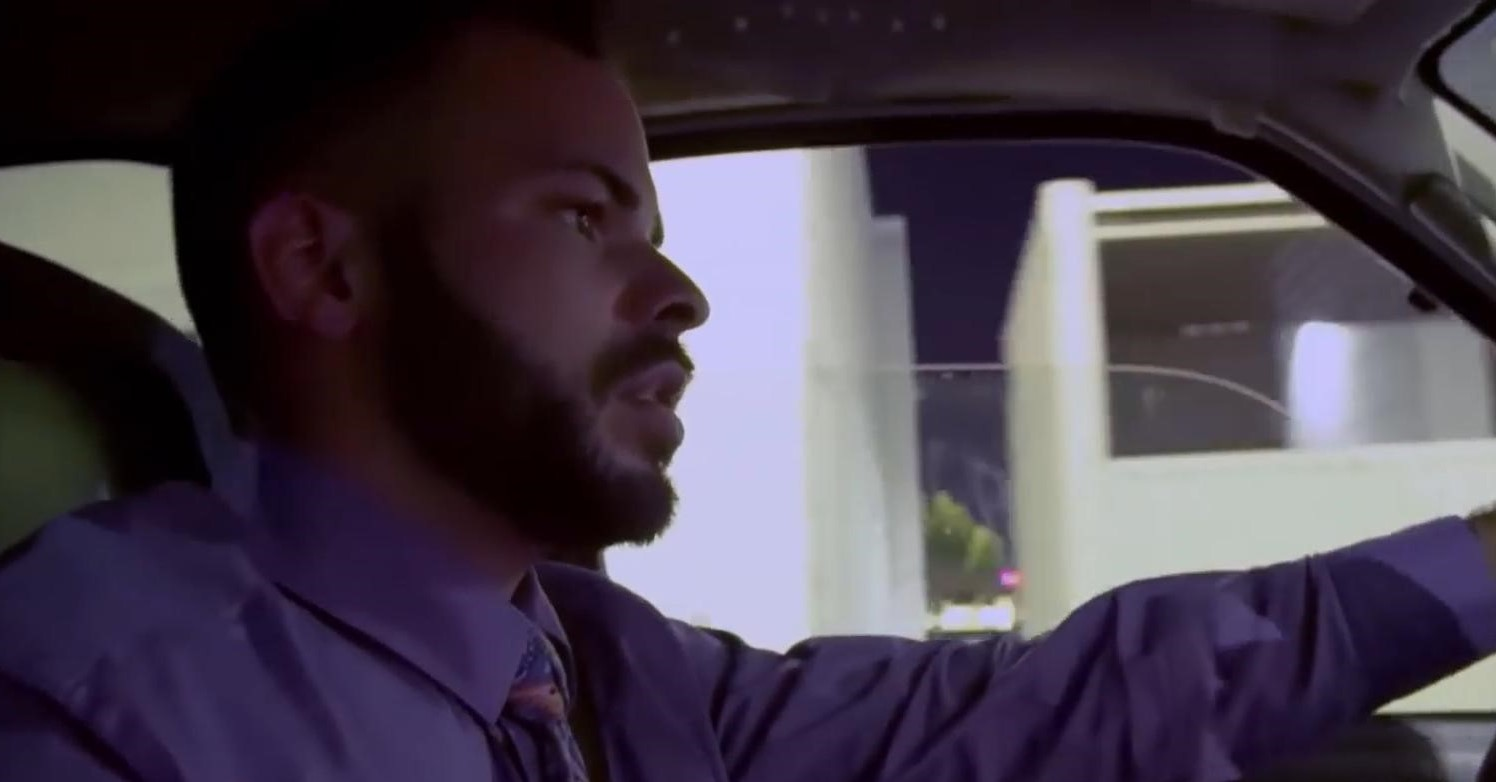without_mask: (469, 154, 667, 494)
